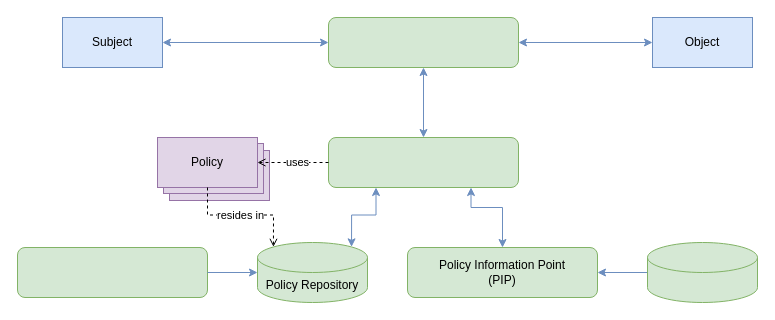
This 775x320 diagram has some shape labels left out. The centre of each missing label's shape, as x and y in pixels:
Attribute Repository: point 702,272
Policy Administration Point (PAP): point 112,272
Policy Decision Point (PDP): point 423,162
Policy Enforcement Point (PEP): point 423,42
